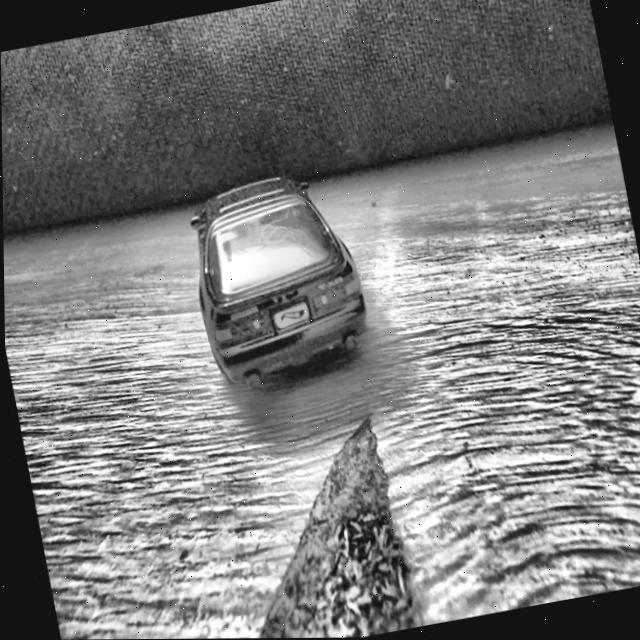car: (177, 164, 377, 394)
